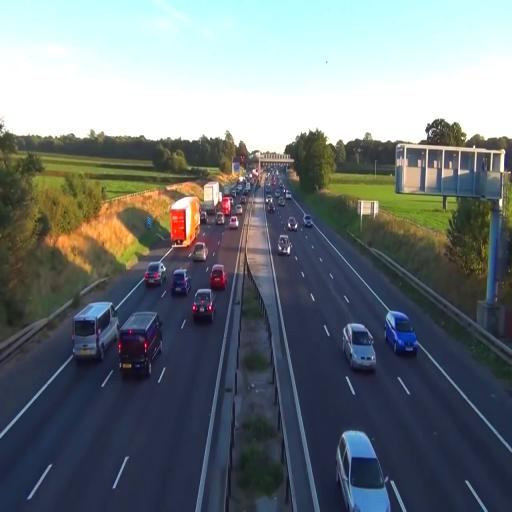vehicle: (336, 430, 390, 512), (118, 310, 162, 376), (72, 300, 117, 363), (342, 321, 376, 372), (170, 195, 200, 248), (384, 310, 418, 356), (192, 288, 216, 324), (202, 180, 221, 222), (170, 269, 190, 298), (209, 262, 227, 292), (144, 263, 163, 287), (278, 234, 291, 255)
